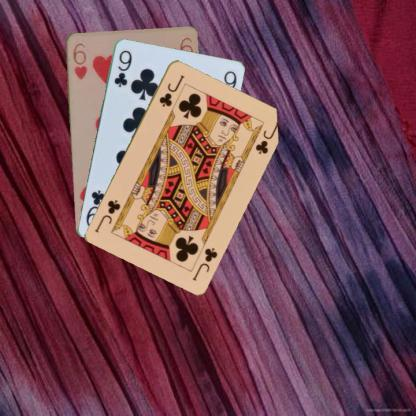6h: (70, 40, 88, 80)
9c: (111, 47, 133, 88)
Jc: (189, 244, 219, 281), (156, 72, 185, 108)
